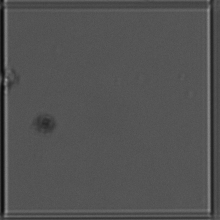Dead Cell: (33, 108, 61, 136), (2, 66, 22, 91)
